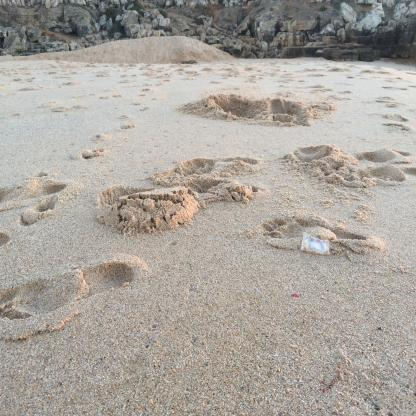trash: (300, 231, 332, 257)
